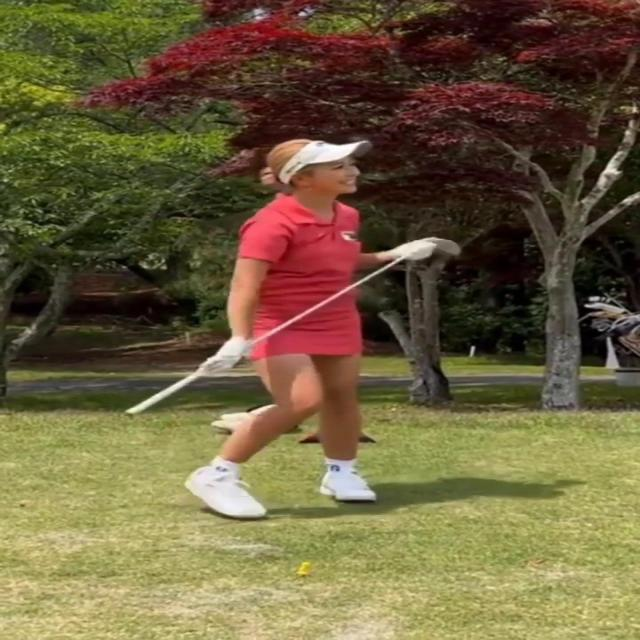ClubHandle: (128, 235, 461, 416)
ClubHead: (409, 235, 461, 261)
GolfBall: (295, 562, 310, 574)
